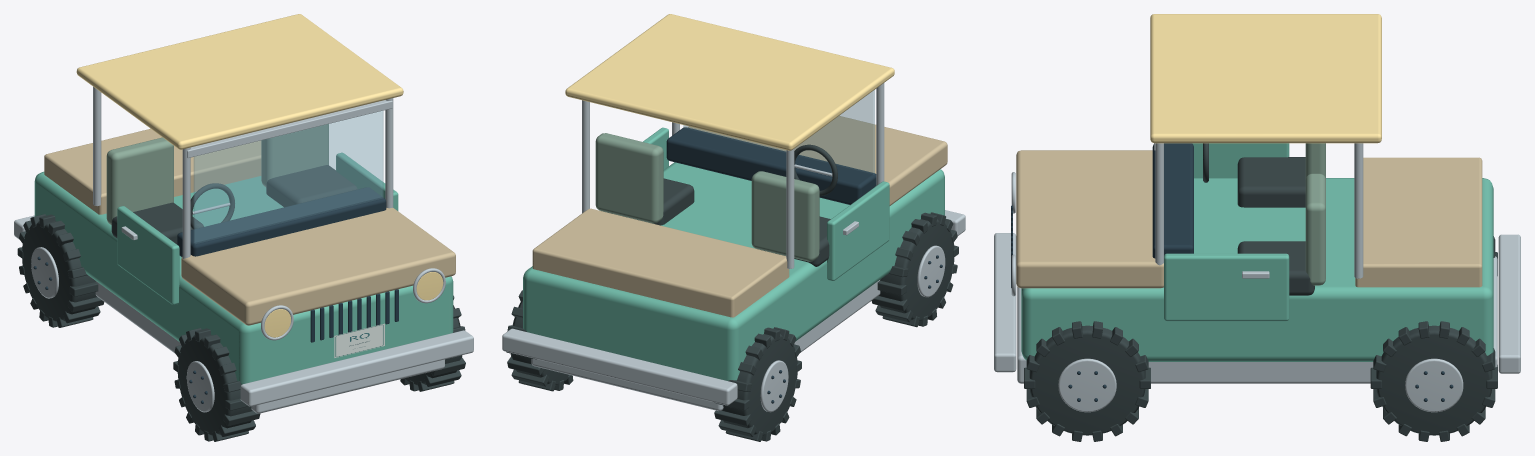
File: utility_vehicle.glb
The picture shows the model from 3 angles, left to right: view 1: azimuth 30°, elevation 25°; view 2: azimuth 150°, elevation 25°; view 3: azimuth 270°, elevation 25°; orthographic projection. The views are drawn at different scales.
Visible parts, largest first — view 1: Roof, Body, Hood, Windshield, Cargo_Bed, Front_Bumper, Dashboard, Seat_Back, Door_Skin, All_Terrain_Tire, Chassis, All_Terrain_Tire_2 (+14 smaller); view 2: Body, Roof, Cargo_Bed, Hood, Dashboard, Rear_Bumper, Seat_Back_2, Seat_Back, Door_Skin, Windshield, All_Terrain_Tire_2, All_Terrain_Tire (+10 smaller); view 3: Body, Roof, Hood, Cargo_Bed, Door_Skin_2, All_Terrain_Tire_4, All_Terrain_Tire_3, Chassis, Dashboard, Seat_Cushion, Rear_Bumper, Front_Bumper (+8 smaller).
Boxes of the visible parts, x1,y1,x2,y2 form: Roof: (76,14,403,149); Body: (34,171,453,384); Hood: (181,208,455,325); Windshield: (194,111,383,243); Cargo_Bed: (44,128,261,214); Front_Bumper: (240,330,473,406); Dashboard: (177,187,386,256); Seat_Back: (106,137,173,224); Door_Skin: (117,206,179,304); All_Terrain_Tire: (22,220,96,321); Chassis: (95,281,444,413); All_Terrain_Tire_2: (177,335,252,435); Body: (523,162,944,380); Roof: (565,14,894,150); Cargo_Bed: (532,208,789,317); Hood: (688,116,947,205); Dashboard: (666,127,876,204); Rear_Bumper: (502,328,737,405); Seat_Back_2: (595,133,663,223); Seat_Back: (751,171,819,261); Door_Skin: (827,181,889,280); Windshield: (683,90,874,174); All_Terrain_Tire_2: (878,219,954,320); All_Terrain_Tire: (722,333,797,435); Body: (1021,178,1493,361); Roof: (1150,14,1381,143); Hood: (1016,150,1163,288); Cargo_Bed: (1355,157,1482,287); Door_Skin_2: (1164,253,1289,321); All_Terrain_Tire_4: (1029,325,1145,435); All_Terrain_Tire_3: (1376,325,1492,435); Chassis: (1017,256,1497,383); Dashboard: (1152,143,1193,258); Seat_Cushion: (1237,157,1305,207); Rear_Bumper: (1498,234,1520,373); Front_Bumper: (994,233,1016,372).
Size of the model in its own units: 1.85 by 1.95 by 3.07.
9 materials, 1 textured.
